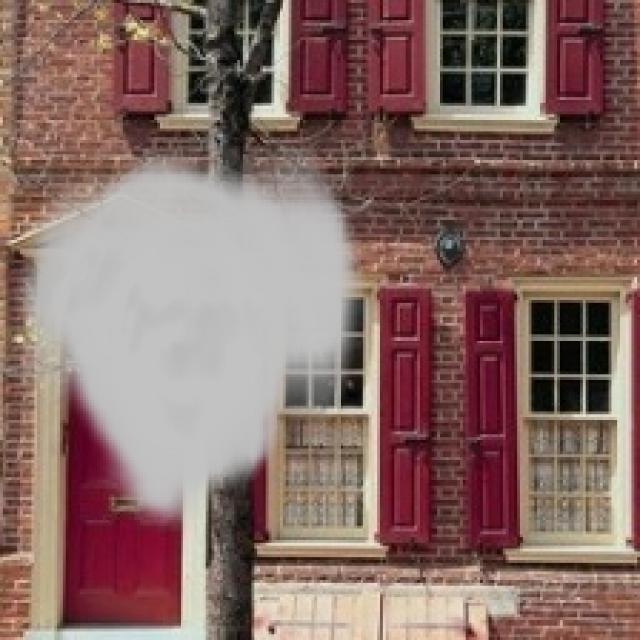smoke: (8, 148, 366, 532)
